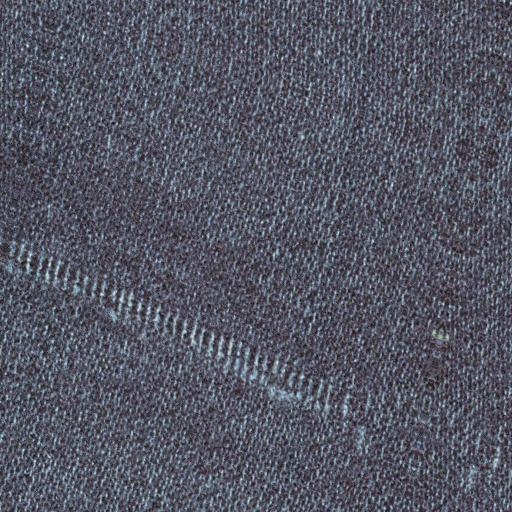slub: (5, 222, 351, 424)
